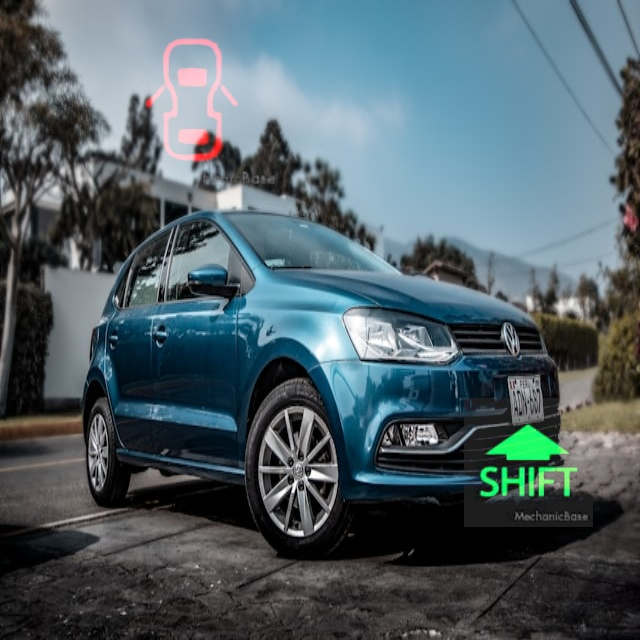symbol: (103, 14, 282, 193), (464, 398, 593, 527)
